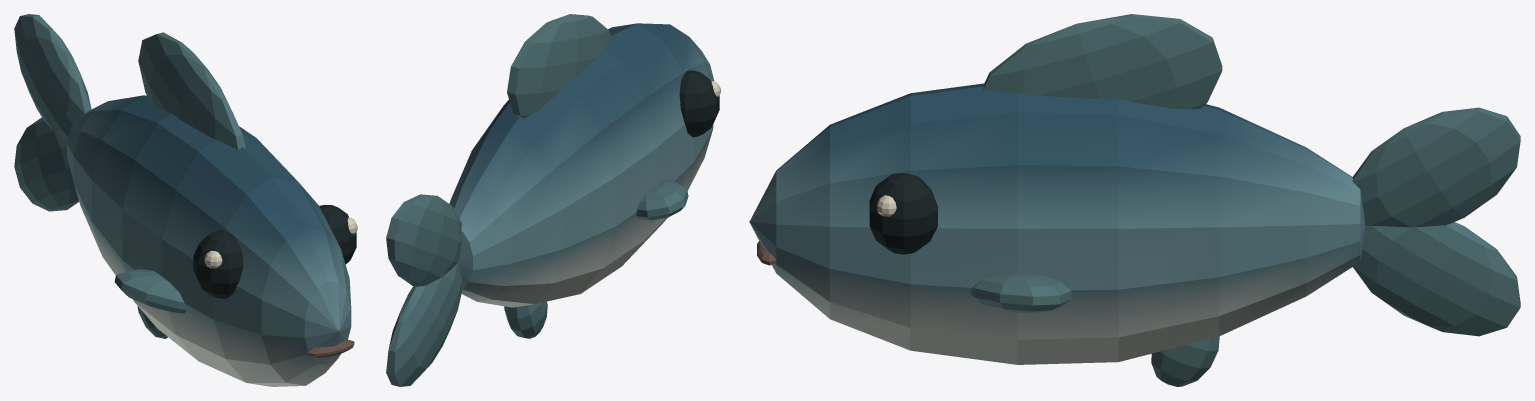
The model's file is komachi-horse-mackerel.glb.
3 views of the same model, side by side, from view 1: azimuth 30°, elevation 25°; view 2: azimuth 150°, elevation 25°; view 3: azimuth 270°, elevation 25° (orthographic). The views are drawn at different scales.
Visible parts, largest first — view 1: Fish_Body, Fish_Tail_Fin; view 2: Fish_Body, Fish_Tail_Fin; view 3: Fish_Body, Fish_Tail_Fin.
Boxes of the visible parts, x1,y1,x2,y2 form: Fish_Body: (67,32,357,386); Fish_Tail_Fin: (14,14,91,211); Fish_Body: (449,14,720,338); Fish_Tail_Fin: (386,194,461,386); Fish_Body: (749,14,1364,386); Fish_Tail_Fin: (1352,107,1520,336).
Bounding box in the file's own units: 0.0621 × 0.0913 × 0.1723.
